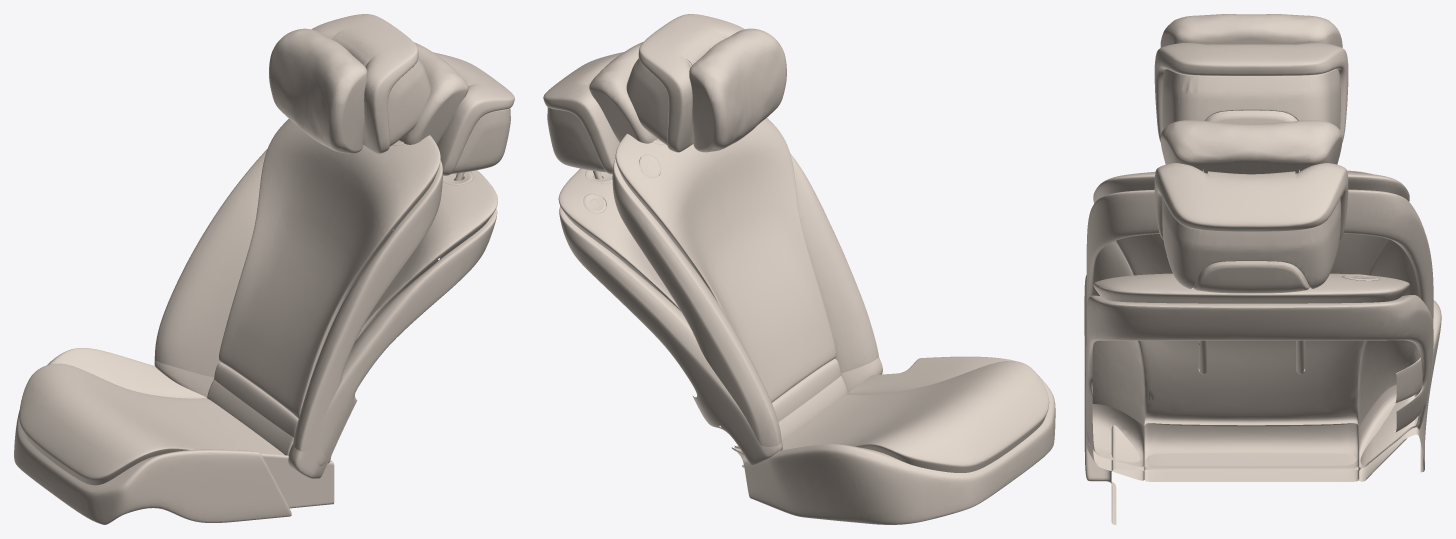
The model's file is Fondsitz_BFS.fbx.
The picture shows the model from 3 angles, left to right: view 1: azimuth 30°, elevation 25°; view 2: azimuth 150°, elevation 25°; view 3: azimuth 270°, elevation 25°; orthographic projection. The views are drawn at different scales.
Visible parts, largest first — view 1: Fondsitz_BFS_25, Fondsitz_BFS_45; view 2: Fondsitz_BFS_25, Fondsitz_BFS_45; view 3: Fondsitz_BFS_45, Fondsitz_BFS_25.
Boxes of the visible parts, left/top/right/bottom form: Fondsitz_BFS_25: left=14, top=14, right=442, bottom=524; Fondsitz_BFS_45: left=154, top=42, right=514, bottom=478; Fondsitz_BFS_25: left=612, top=14, right=1055, bottom=524; Fondsitz_BFS_45: left=543, top=42, right=882, bottom=467; Fondsitz_BFS_45: left=1086, top=120, right=1433, bottom=481; Fondsitz_BFS_25: left=1084, top=14, right=1441, bottom=524.
Bounding box in the file's own units: 105 × 91.4 × 54.93.
